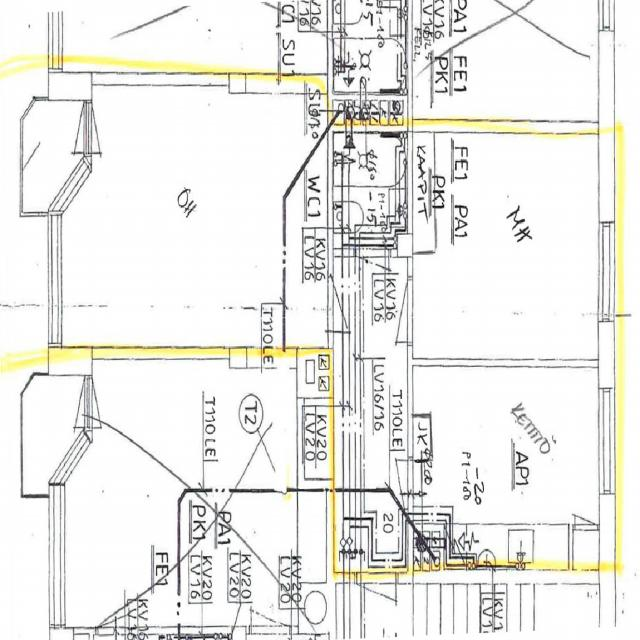door: (368, 280, 412, 342), (328, 275, 369, 331), (354, 248, 389, 313), (50, 102, 91, 154), (83, 102, 124, 154), (374, 459, 412, 514), (575, 488, 598, 530)
